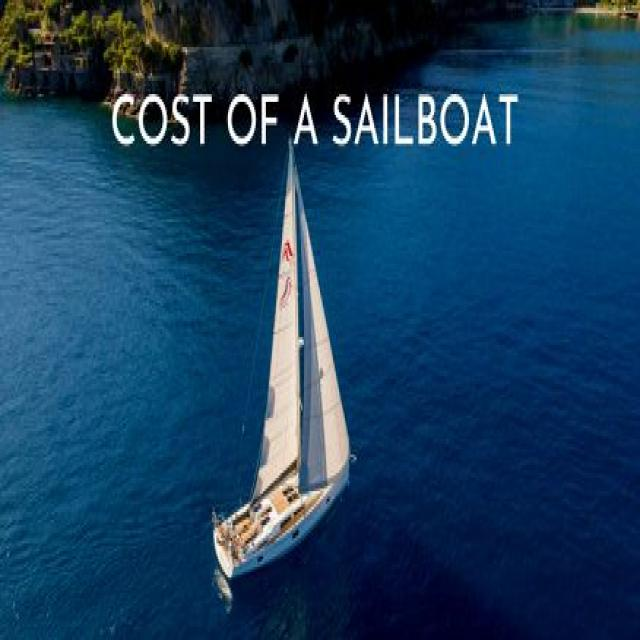boat: (202, 127, 366, 601)
